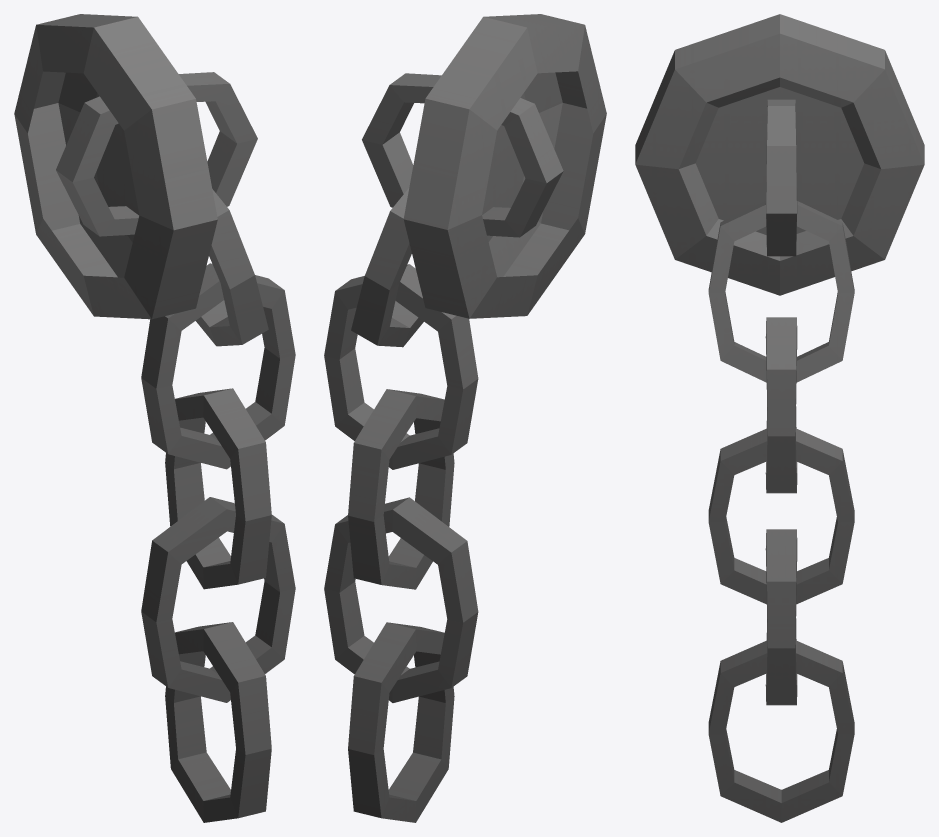
Rendered from Cadena entera.fbx.
The picture shows the model from 3 angles, left to right: view 1: azimuth 30°, elevation 25°; view 2: azimuth 150°, elevation 25°; view 3: azimuth 270°, elevation 25°; orthographic projection. The views are drawn at different scales.
Parts seen in each view (by area): view 1: Cadena.001; view 2: Cadena.001; view 3: Cadena.001.
Boxes of the visible parts, bbox=[...] form: Cadena.001: bbox=[14, 14, 295, 822]; Cadena.001: bbox=[324, 14, 606, 822]; Cadena.001: bbox=[635, 14, 924, 822].
Size of the model in its own units: 108 by 379 by 133.
